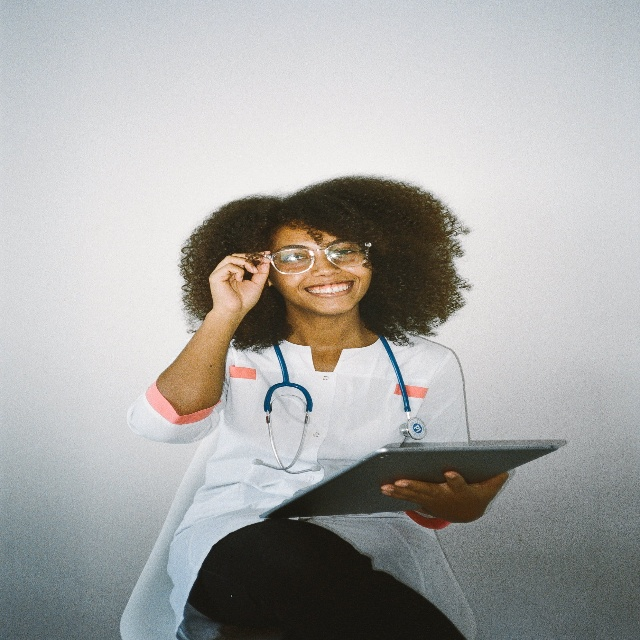Gafas: (266, 241, 373, 275)
Sin_guantes: (380, 463, 509, 527), (208, 249, 271, 319)
